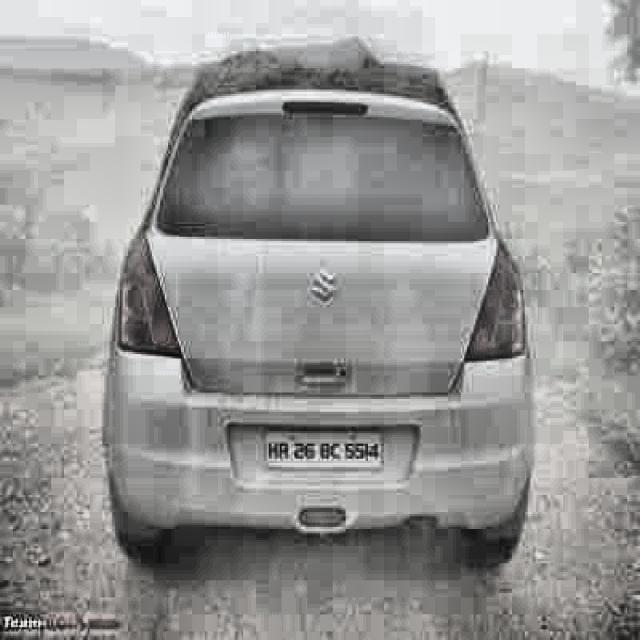license_plate: (262, 429, 388, 476)
